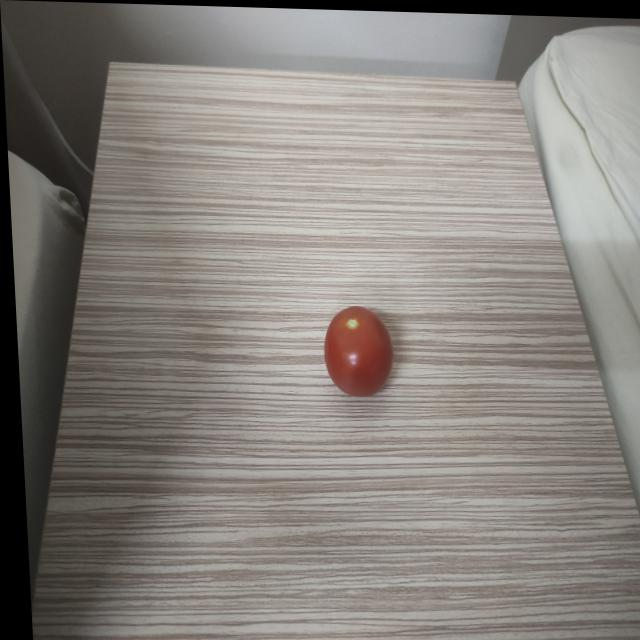kirmizi: (303, 276, 404, 407)
